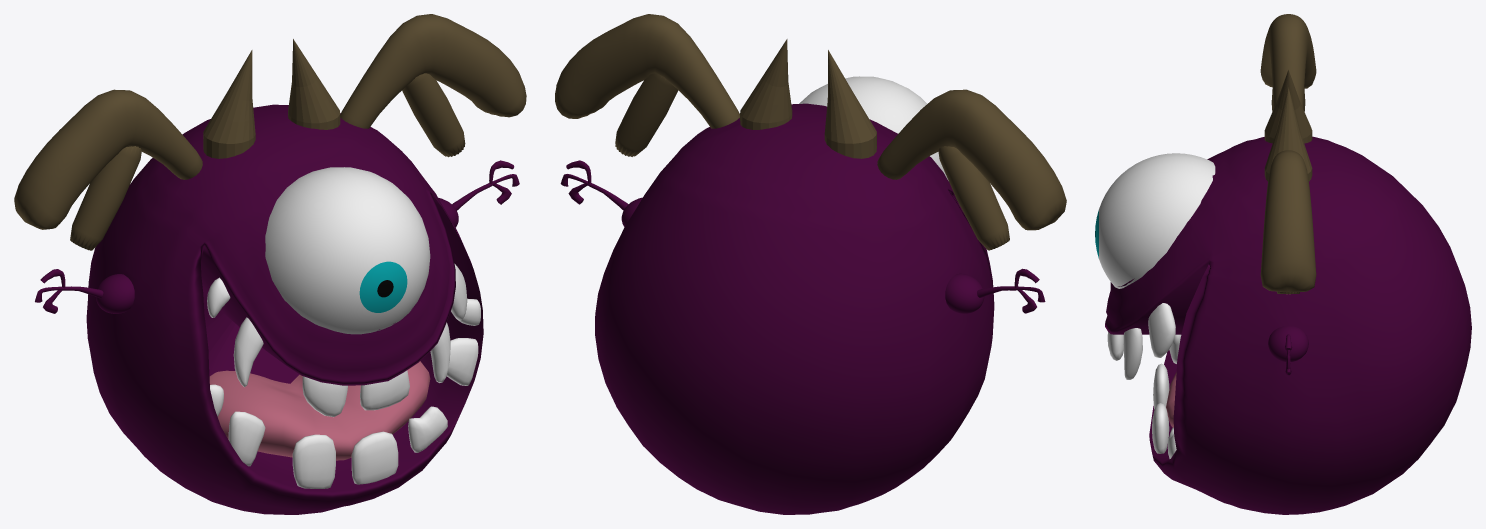
Rendered from TankyEnemy.fbx.
3 renders of one model, left to right at view 1: azimuth 30°, elevation 25°; view 2: azimuth 150°, elevation 25°; view 3: azimuth 270°, elevation 25°, orthographic. The views are drawn at different scales.
Parts seen in each view (by area): view 1: Gövde, boynuz_2, Göz, dis, Dil, boynuz, El; view 2: Gövde, boynuz_2, boynuz, Göz, El; view 3: Gövde, Göz, boynuz_2, dis, boynuz, El.
Boxes of the visible parts, x1=… form: Gövde: x1=86, y1=104, x2=483, y2=514; boynuz_2: x1=14, y1=14, x2=526, y2=250; Göz: x1=265, y1=167, x2=430, y2=334; dis: x1=207, y1=263, x2=480, y2=488; Dil: x1=209, y1=361, x2=430, y2=460; boynuz: x1=203, y1=39, x2=340, y2=158; El: x1=35, y1=160, x2=519, y2=313; Gövde: x1=595, y1=103, x2=994, y2=514; boynuz_2: x1=555, y1=14, x2=1066, y2=250; boynuz: x1=740, y1=39, x2=876, y2=158; Göz: x1=799, y1=76, x2=948, y2=180; El: x1=560, y1=160, x2=1045, y2=313; Gövde: x1=1105, y1=136, x2=1471, y2=514; Göz: x1=1095, y1=153, x2=1215, y2=288; boynuz_2: x1=1260, y1=14, x2=1316, y2=294; dis: x1=1107, y1=303, x2=1181, y2=458; boynuz: x1=1264, y1=70, x2=1312, y2=181; El: x1=1268, y1=326, x2=1308, y2=375.
Bounding box in the file's own units: 7.2 × 6.29 × 5.19.
